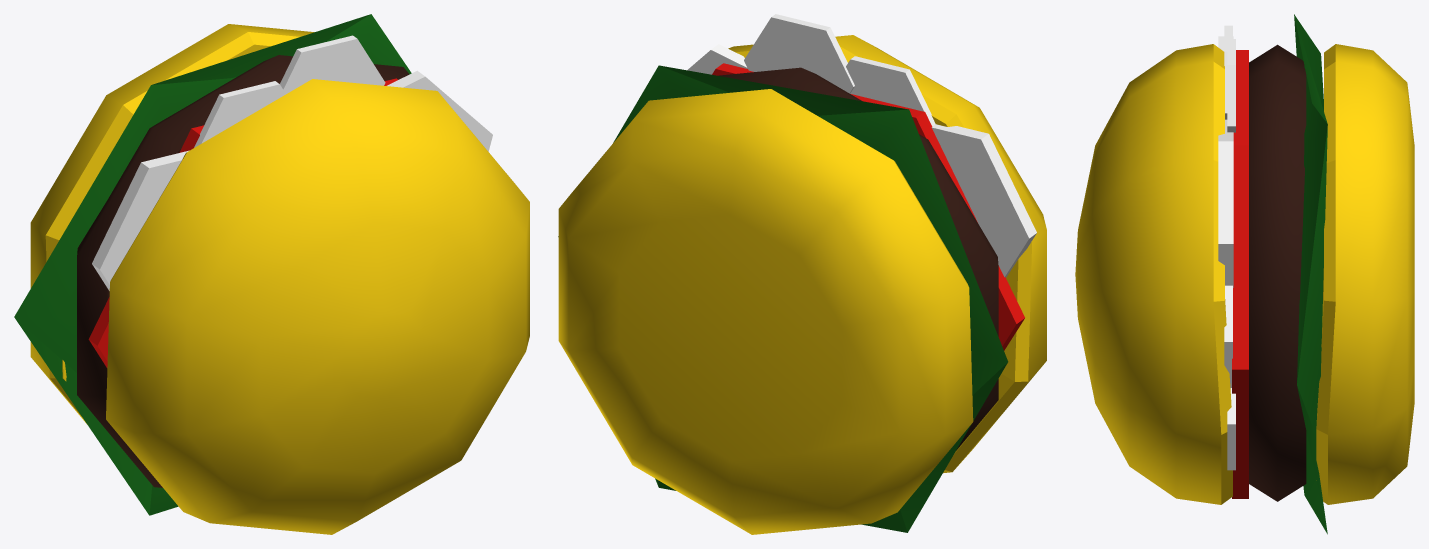
The model's file is Hamburger.obj.
The picture shows the model from 3 angles, left to right: view 1: azimuth 30°, elevation 25°; view 2: azimuth 150°, elevation 25°; view 3: azimuth 270°, elevation 25°; orthographic projection. The views are drawn at different scales.
Visible parts, largest first — view 1: polySurface24; view 2: polySurface24; view 3: polySurface24.
Part boxes in pixels (x1,y1,x2,y2): polySurface24: (14, 14, 529, 534); polySurface24: (558, 14, 1046, 534); polySurface24: (1075, 14, 1414, 534).
Size of the model in its own units: 256 by 241 by 166.
